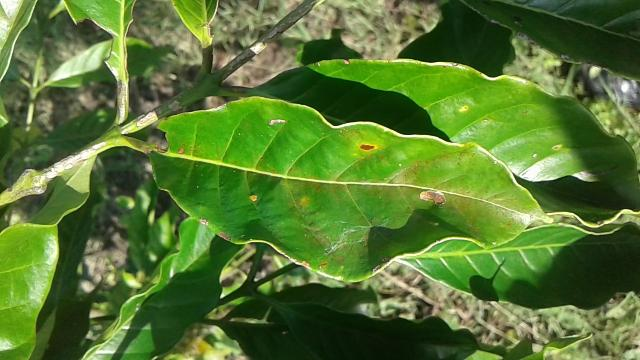red_spider_mite: (147, 94, 561, 286)
